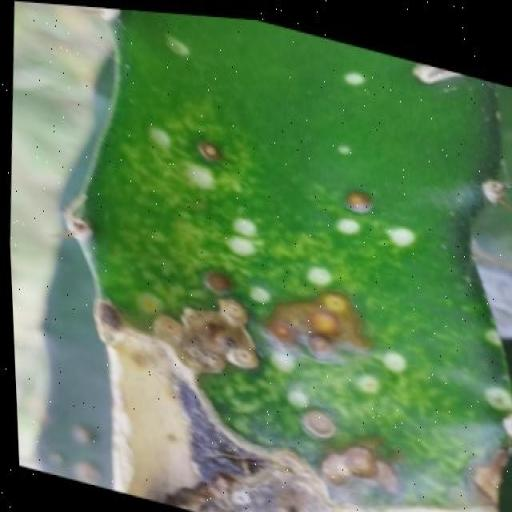stemcanker: (354, 108, 382, 166), (366, 415, 384, 465), (284, 401, 300, 457), (256, 349, 272, 403), (307, 82, 324, 132), (301, 420, 317, 471), (202, 434, 218, 484), (293, 145, 306, 201), (262, 213, 274, 273), (216, 64, 232, 107), (308, 168, 322, 216), (204, 288, 216, 340), (274, 223, 285, 278), (186, 316, 199, 362), (238, 256, 250, 298), (219, 480, 234, 512), (328, 402, 342, 436)
